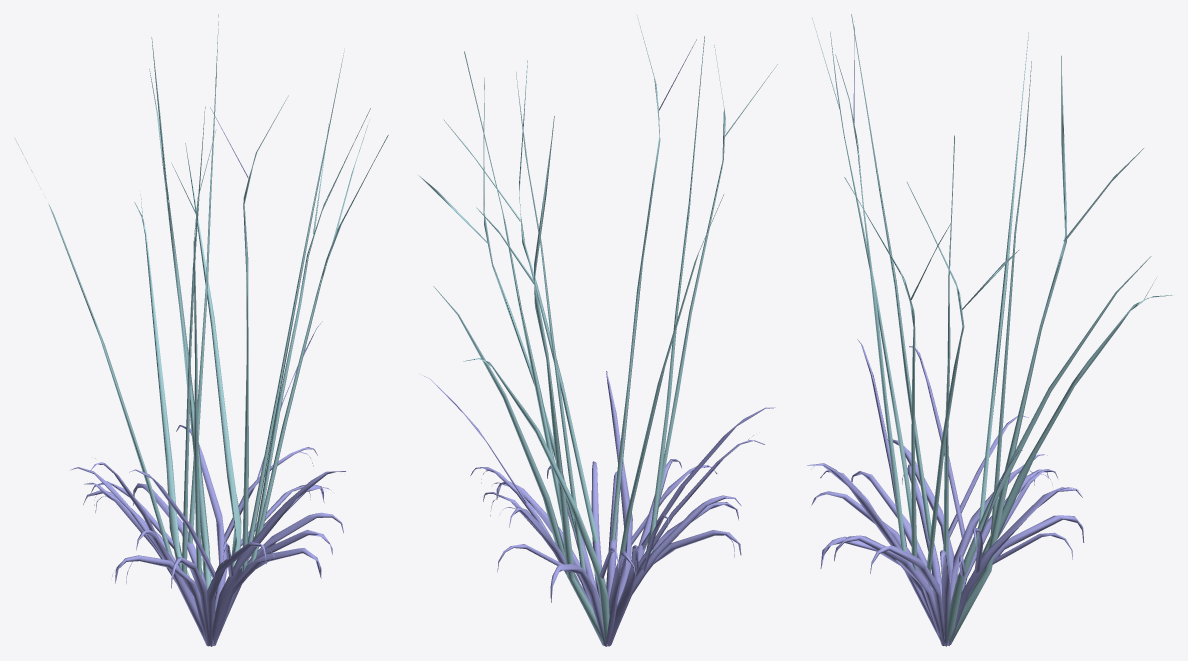
The model's file is grass_3.fbx.
The picture shows the model from 3 angles, left to right: view 1: azimuth 30°, elevation 25°; view 2: azimuth 150°, elevation 25°; view 3: azimuth 270°, elevation 25°; orthographic projection. The views are drawn at different scales.
Visible parts, largest first — view 1: Grass_Bundle_3; view 2: Grass_Bundle_3; view 3: Grass_Bundle_3.
Boxes of the visible parts, left/top/right/bottom form: Grass_Bundle_3: left=14, top=14, right=388, bottom=646; Grass_Bundle_3: left=418, top=14, right=777, bottom=646; Grass_Bundle_3: left=807, top=14, right=1173, bottom=646.
Bounding box in the file's own units: 233 × 412 × 225.
